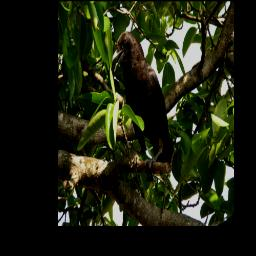Crow: (110, 28, 174, 175)
